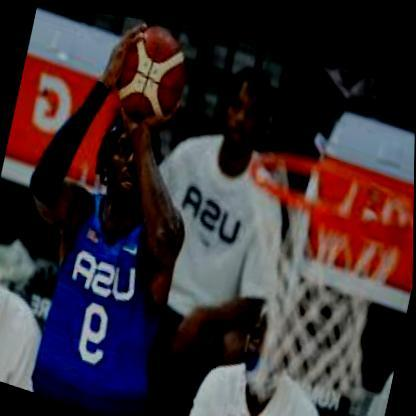basketball: (109, 13, 194, 130)
rim: (240, 125, 415, 240)
